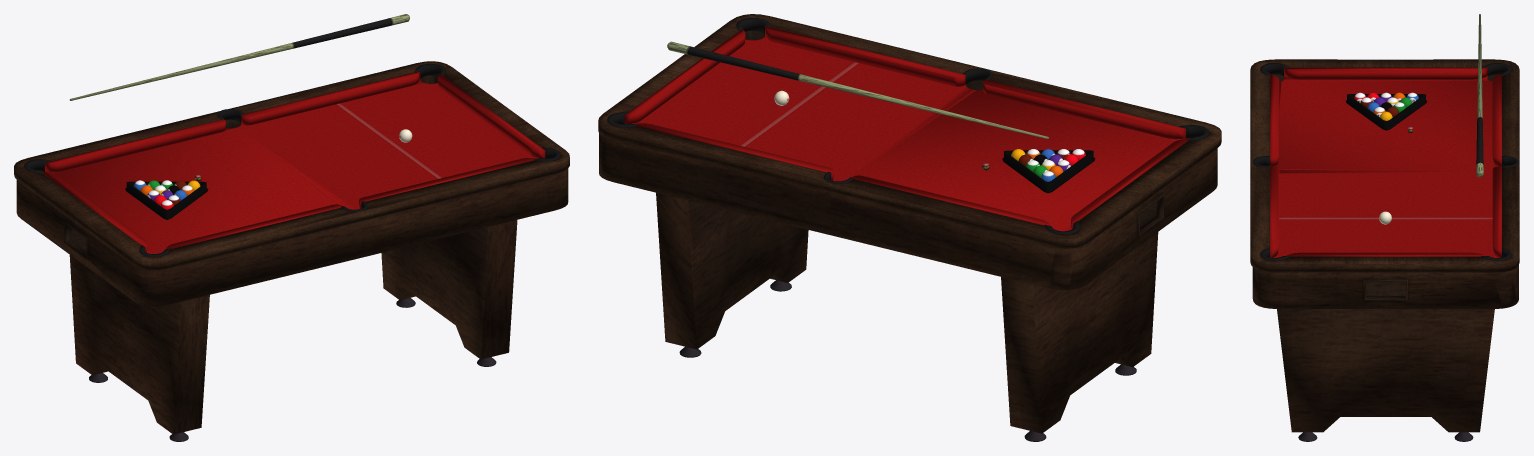
The model's file is masa.glb.
3 renders of one model, left to right at view 1: azimuth 30°, elevation 25°; view 2: azimuth 150°, elevation 25°; view 3: azimuth 270°, elevation 25°, orthographic. The views are drawn at different scales.
Parts seen in each view (by area): view 1: Object_2; view 2: Object_2; view 3: Object_2.
Part boxes in pixels (bbox=[...]): Object_2: bbox=[14, 14, 569, 441]; Object_2: bbox=[598, 14, 1221, 441]; Object_2: bbox=[1250, 14, 1519, 441].
Size of the model in its own units: 2.41 by 1.49 by 1.34.
Materials: 1 (1 with a texture image).
